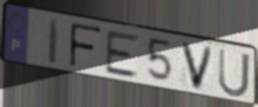5: (145, 37, 174, 85)
E: (104, 30, 142, 81)
F: (68, 21, 104, 71)
I: (47, 18, 62, 68)
U: (217, 46, 251, 100)
V: (179, 40, 216, 94)
